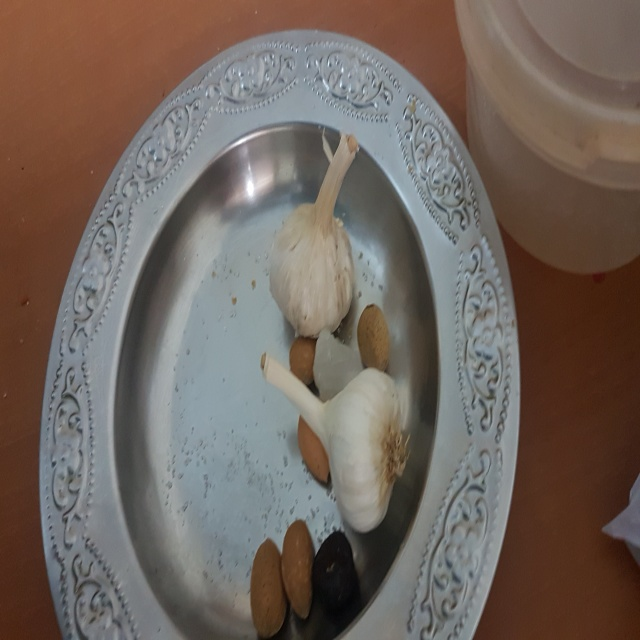garlic: (238, 349, 433, 531), (254, 132, 410, 340)
